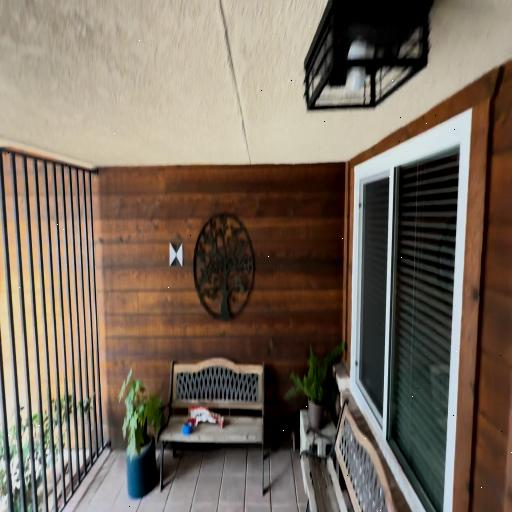target: (169, 242, 183, 266)
